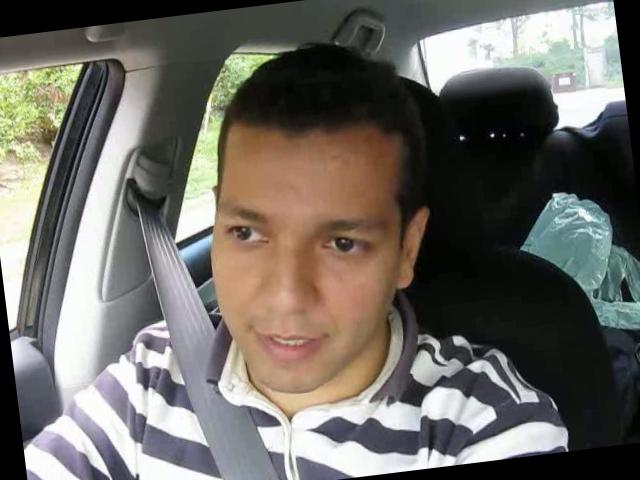eye_open: (320, 227, 377, 265), (220, 216, 274, 256)
face: (195, 176, 401, 400)
